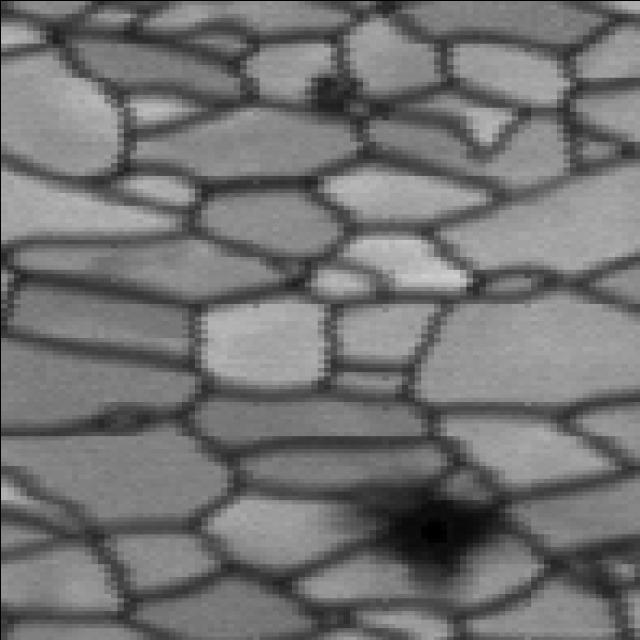good_void: (362, 484, 524, 576), (78, 395, 173, 451), (303, 67, 386, 125), (562, 542, 640, 593)
